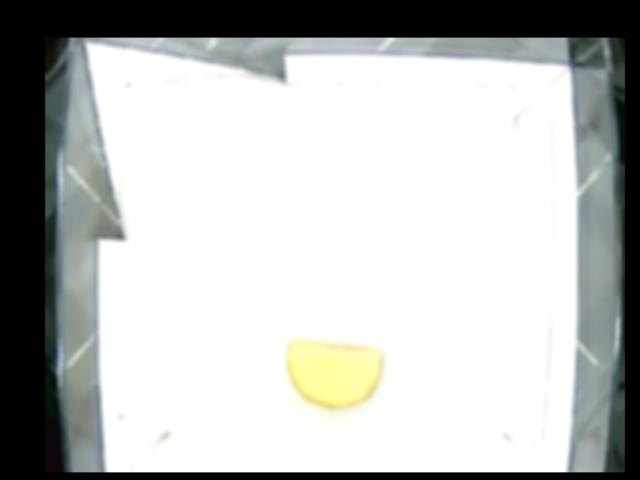Potato: (284, 336, 384, 408)
